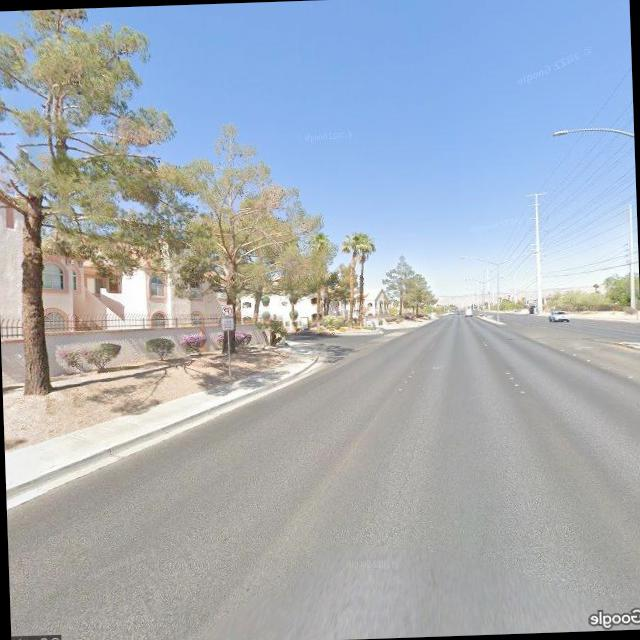crack: (392, 426, 424, 509)
